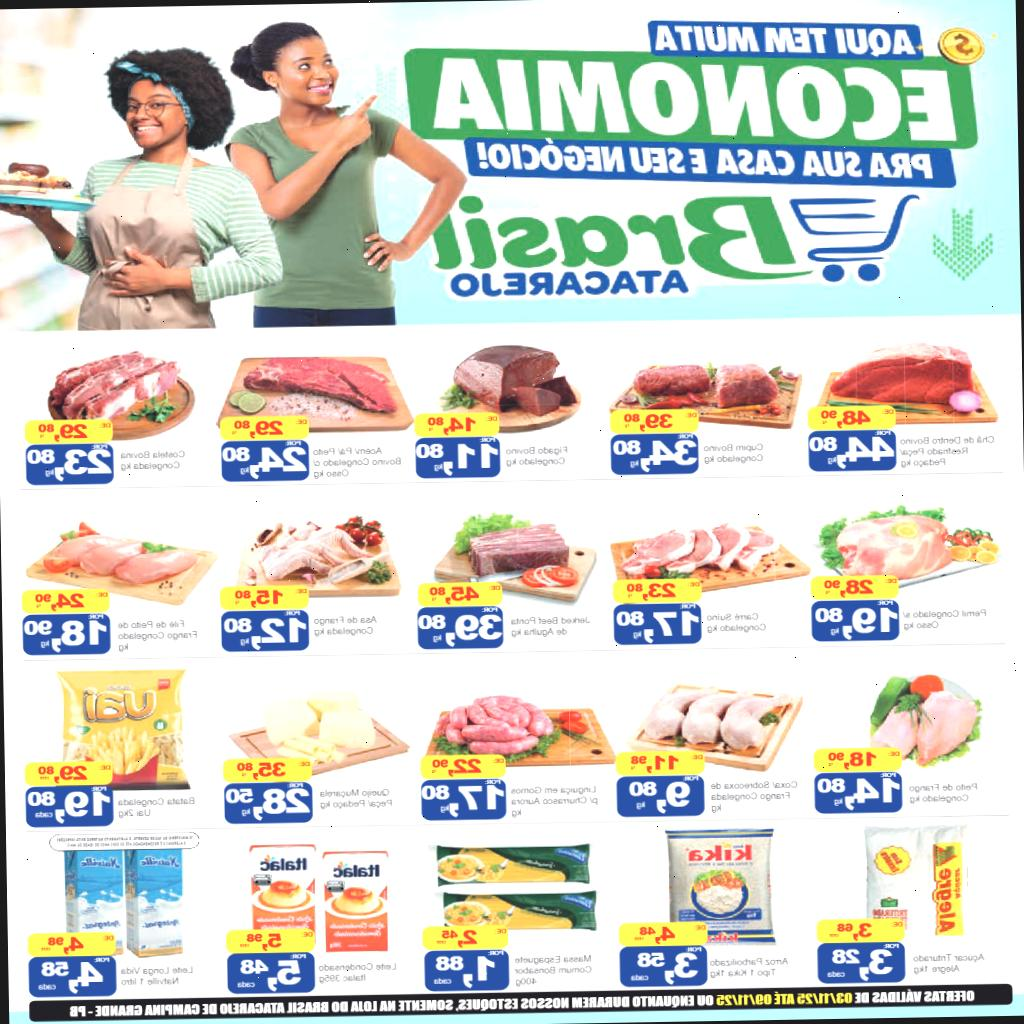price: (222, 615, 308, 651), (816, 776, 902, 812), (812, 605, 900, 640), (417, 612, 502, 648), (612, 609, 700, 643), (23, 618, 108, 653), (808, 435, 895, 469), (611, 438, 698, 472), (26, 790, 112, 824), (224, 787, 310, 821), (416, 442, 500, 476), (422, 784, 506, 818), (221, 446, 307, 478), (26, 448, 112, 480), (626, 950, 701, 986), (34, 960, 105, 994), (233, 958, 303, 992), (824, 948, 894, 982), (628, 780, 692, 816), (430, 954, 497, 988)
product_text: (898, 433, 996, 470), (310, 442, 404, 480), (508, 782, 600, 818), (708, 778, 800, 814), (114, 617, 200, 652), (512, 952, 594, 988), (901, 605, 990, 635), (508, 612, 592, 640), (316, 959, 400, 985), (316, 786, 396, 812), (116, 794, 196, 820), (708, 954, 790, 979), (910, 950, 986, 976), (906, 781, 982, 806), (120, 962, 196, 986), (312, 612, 380, 638), (704, 610, 769, 636), (701, 440, 766, 466), (118, 448, 188, 472), (504, 444, 570, 468)
